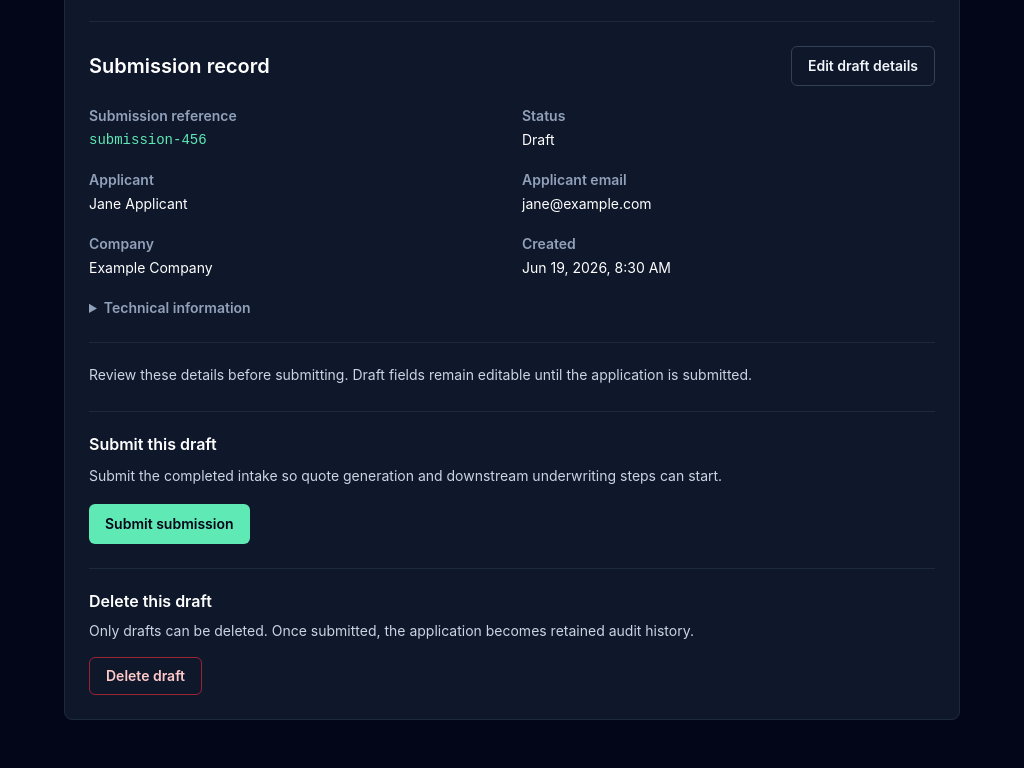
SubmissionDetailPage › closes the dialog and shows the API error when draft deletion fails
(page scrolled)
Click the button "Delete draft" at (146, 676), box [89,657,202,695]
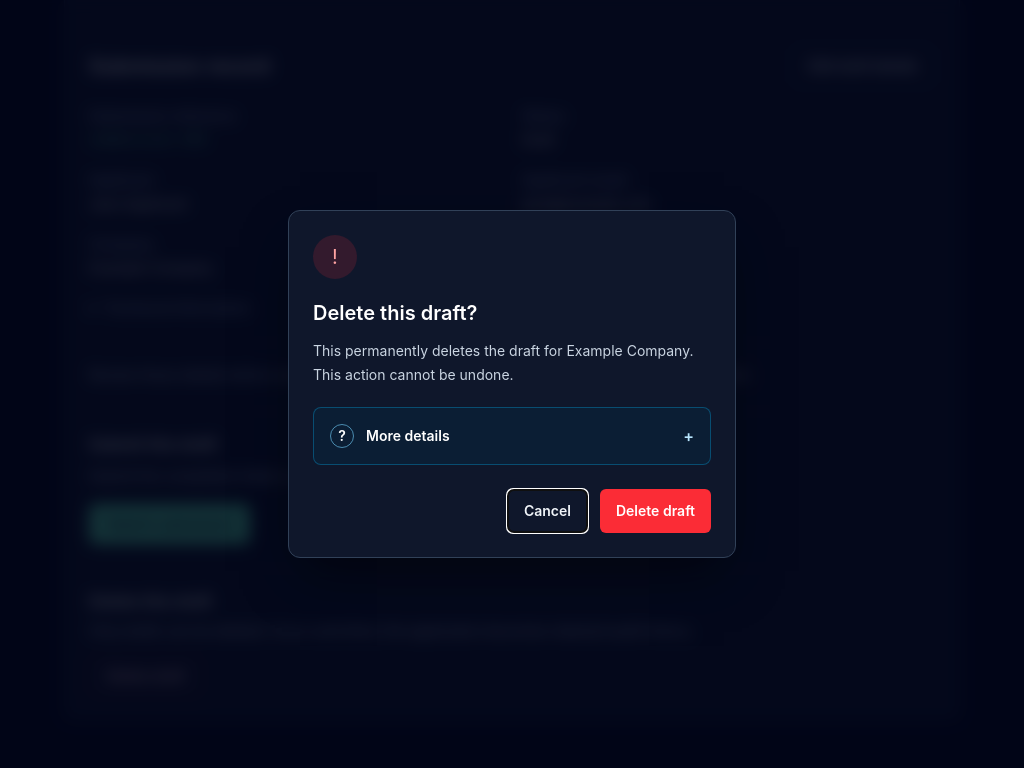
Click the button "Delete draft" at (656, 511), box [600,489,711,533]
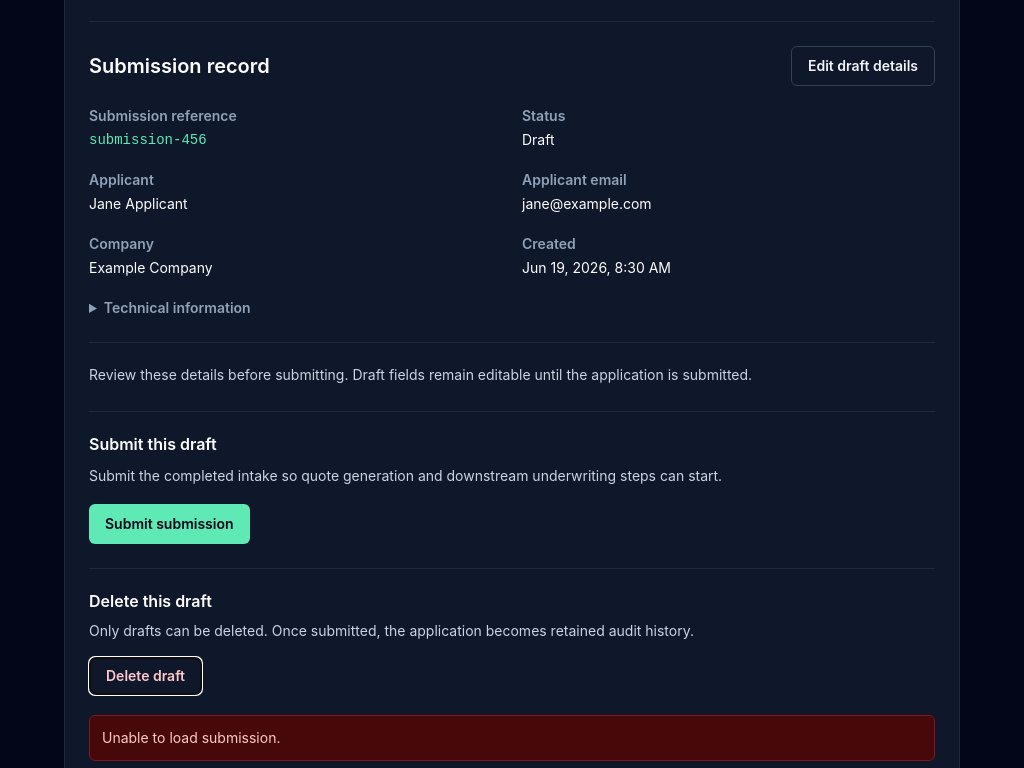
Check: the dialog is gone
Check: the text "Unable to load submission." is shown, box [89,715,935,761]
